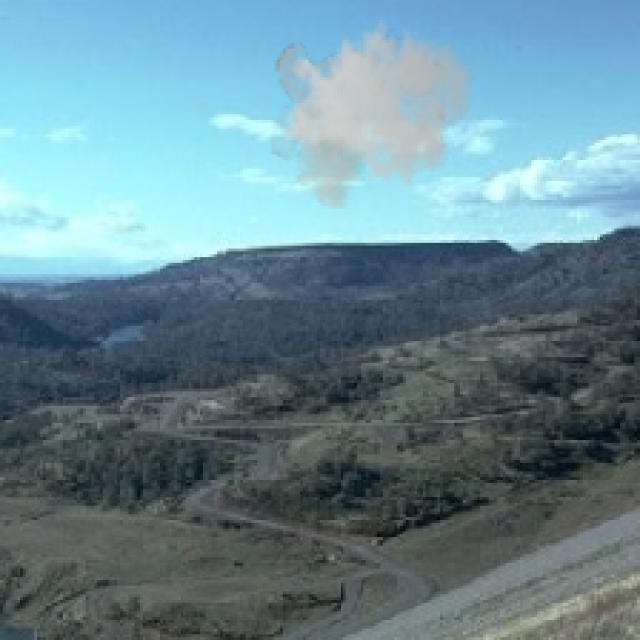smoke: (272, 8, 474, 208)
